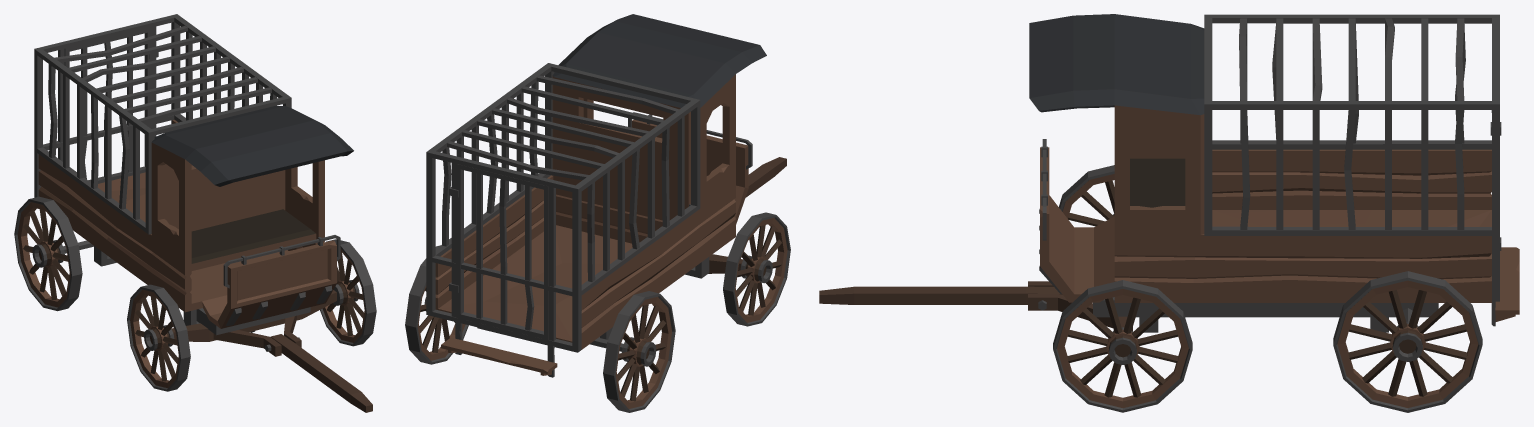
File: SM_Veh_Wagon_Jail_01.glb
3 renders of one model, left to right at view 1: azimuth 30°, elevation 25°; view 2: azimuth 150°, elevation 25°; view 3: azimuth 270°, elevation 25°, orthographic. The views are drawn at different scales.
Visible parts, largest first — view 1: SM_Veh_Wagon_Jail_01, SM_Veh_Wagon_Jail_Wheel_rr, SM_Veh_Wagon_Jail_Wheel_fr, SM_Veh_Wagon_Jail_Wheel_Pivot, SM_Veh_Wagon_Jail_Wheel_fl, SM_Veh_Wagon_Jail_Door_01; view 2: SM_Veh_Wagon_Jail_01, SM_Veh_Wagon_Jail_Door_01, SM_Veh_Wagon_Jail_Wheel_rr, SM_Veh_Wagon_Jail_Wheel_fr, SM_Veh_Wagon_Jail_Wheel_rl, SM_Veh_Wagon_Jail_Wheel_Pivot; view 3: SM_Veh_Wagon_Jail_01, SM_Veh_Wagon_Jail_Wheel_rl, SM_Veh_Wagon_Jail_Wheel_fl, SM_Veh_Wagon_Jail_Wheel_Pivot, SM_Veh_Wagon_Jail_Wheel_fr.
Boxes of the visible parts, x1=… form: SM_Veh_Wagon_Jail_01: x1=34, y1=14, x2=353, y2=335; SM_Veh_Wagon_Jail_Wheel_rr: x1=14, y1=196, x2=82, y2=311; SM_Veh_Wagon_Jail_Wheel_fr: x1=127, y1=284, x2=190, y2=391; SM_Veh_Wagon_Jail_Wheel_Pivot: x1=171, y1=290, x2=372, y2=412; SM_Veh_Wagon_Jail_Wheel_fl: x1=320, y1=239, x2=376, y2=346; SM_Veh_Wagon_Jail_Door_01: x1=64, y1=27, x2=152, y2=183; SM_Veh_Wagon_Jail_01: x1=426, y1=14, x2=766, y2=377; SM_Veh_Wagon_Jail_Door_01: x1=456, y1=164, x2=548, y2=340; SM_Veh_Wagon_Jail_Wheel_rr: x1=603, y1=291, x2=675, y2=412; SM_Veh_Wagon_Jail_Wheel_fr: x1=723, y1=212, x2=790, y2=326; SM_Veh_Wagon_Jail_Wheel_rl: x1=405, y1=245, x2=468, y2=364; SM_Veh_Wagon_Jail_Wheel_Pivot: x1=708, y1=157, x2=786, y2=273; SM_Veh_Wagon_Jail_01: x1=1029, y1=14, x2=1519, y2=332; SM_Veh_Wagon_Jail_Wheel_rl: x1=1333, y1=271, x2=1482, y2=412; SM_Veh_Wagon_Jail_Wheel_fl: x1=1053, y1=280, x2=1192, y2=412; SM_Veh_Wagon_Jail_Wheel_Pivot: x1=819, y1=281, x2=1132, y2=331; SM_Veh_Wagon_Jail_Wheel_fr: x1=1059, y1=165, x2=1114, y2=226.
Bounding box in the file's own units: 2.7 × 2.91 × 6.16.
Materials: 7 (7 with a texture image).
